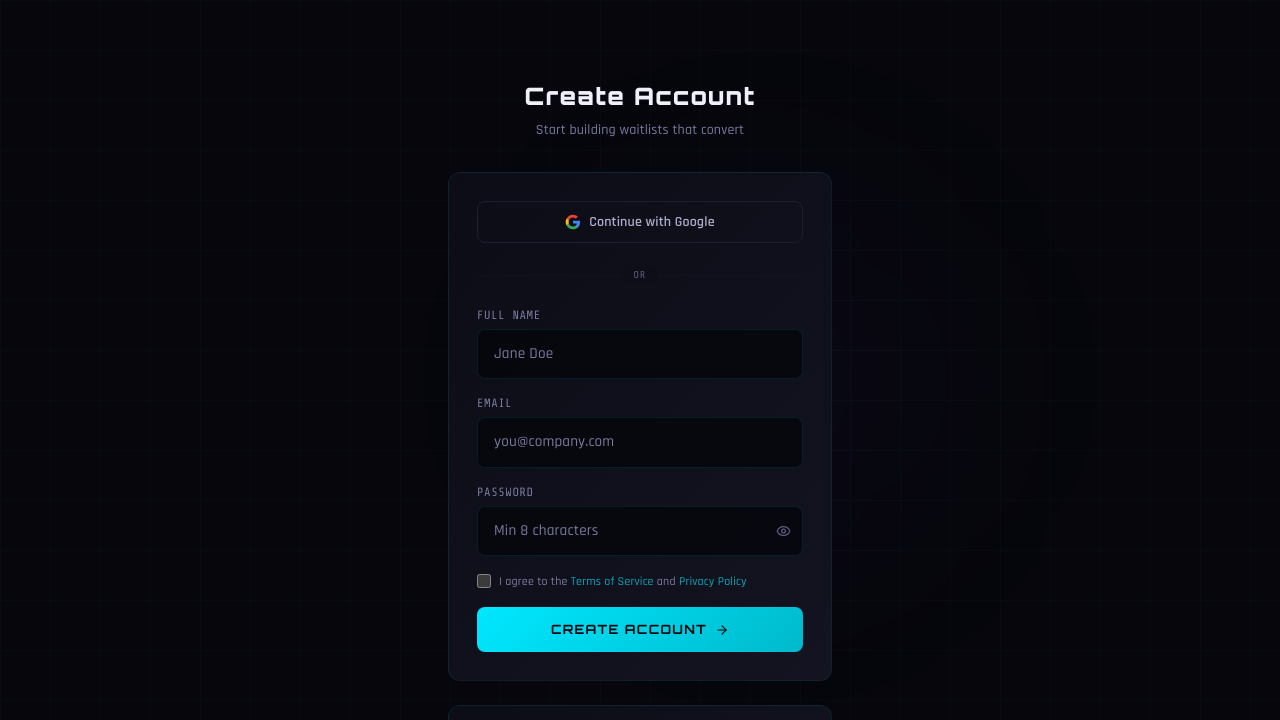
Scenario: Signup › shows password strength indicator when typing
The width and height of the screenshot is (1280, 720).
Expected: the text "Weak" is not shown
Expected: the text "Good" is not shown
Type "abc" into the password field with placeholder "Min 8 characters". click: (640, 531)
box: [477,506,803,556]
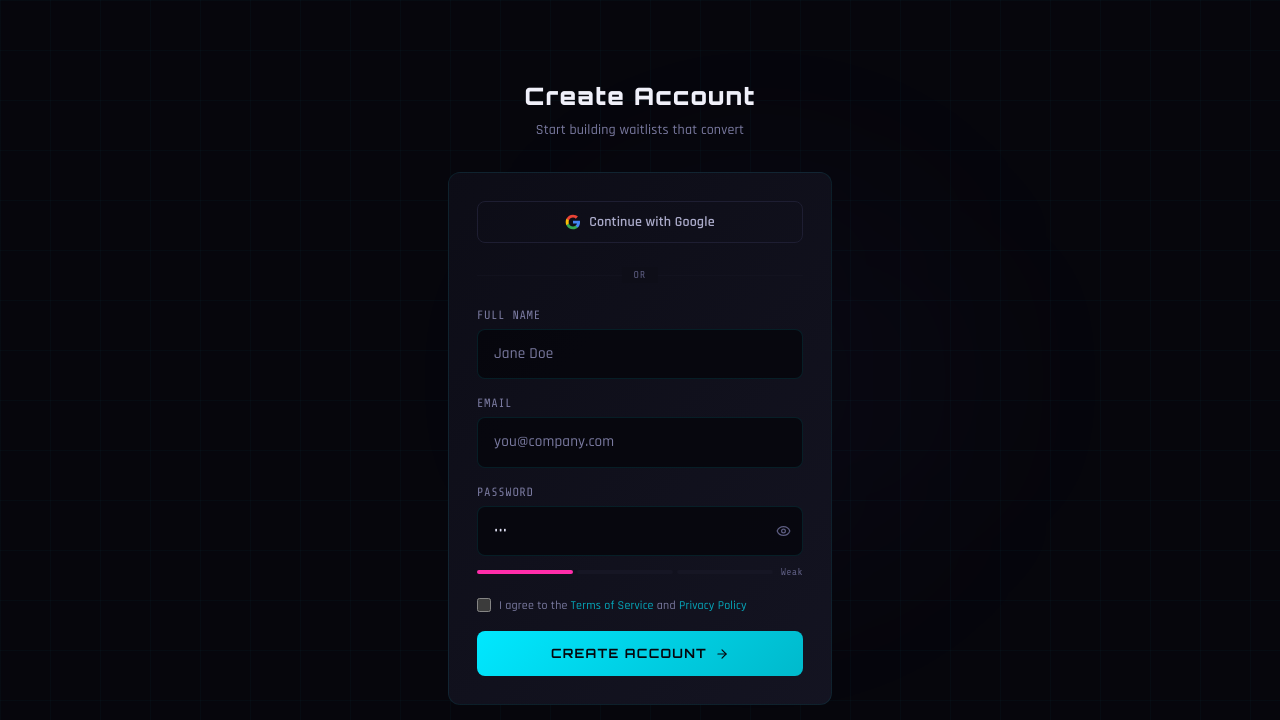
Now the text "Weak" is shown, box [781,564,803,580]
Type "abcdefgh" into the password field with placeholder "Min 8 characters". click: (640, 531)
box: [477,506,803,556]
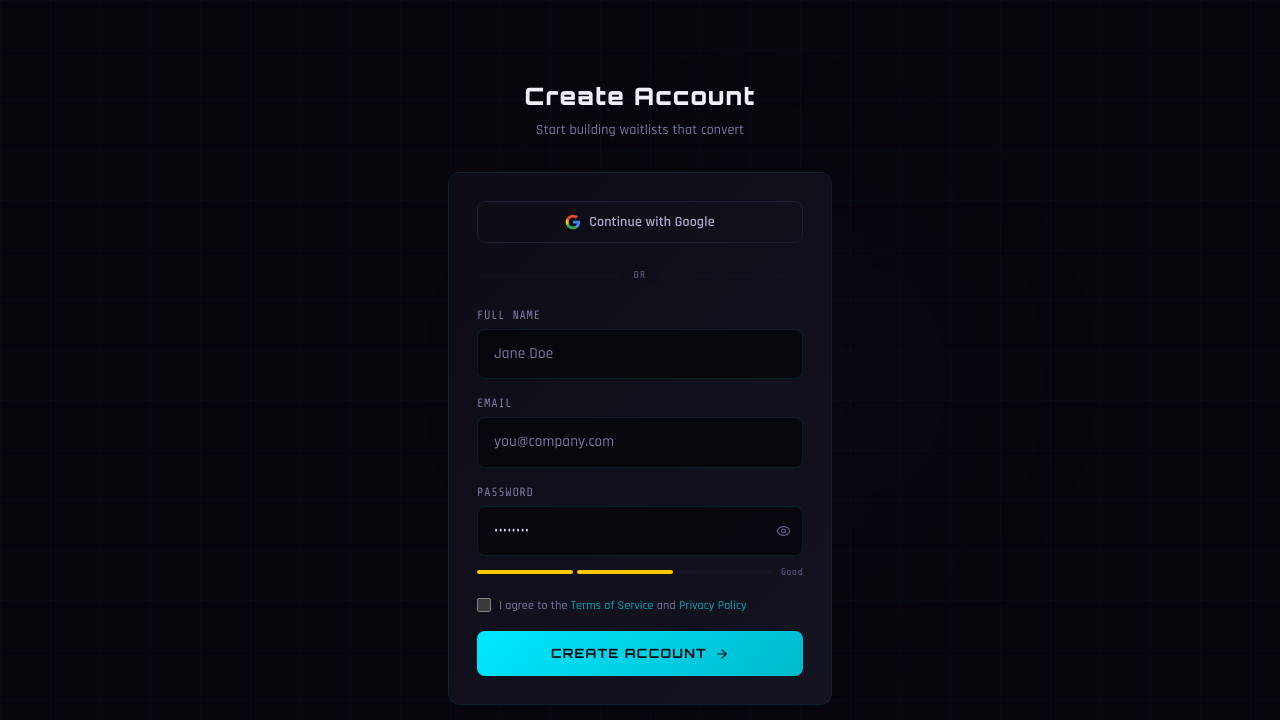
Now the text "Good" is shown, box [781,564,803,580]
Type "abcdefghijk" into the password field with placeholder "Min 8 characters". click: (640, 531)
box: [477,506,803,556]
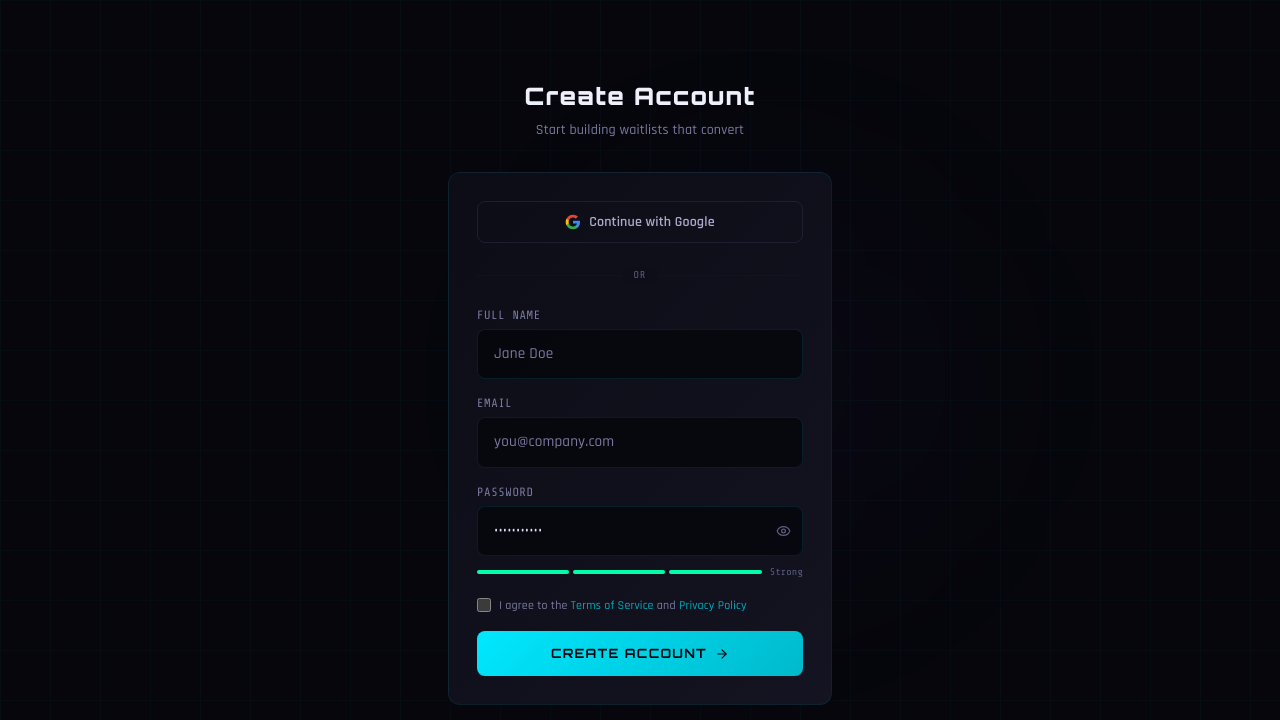
Now the text "Strong" is shown, box [770,564,803,580]
